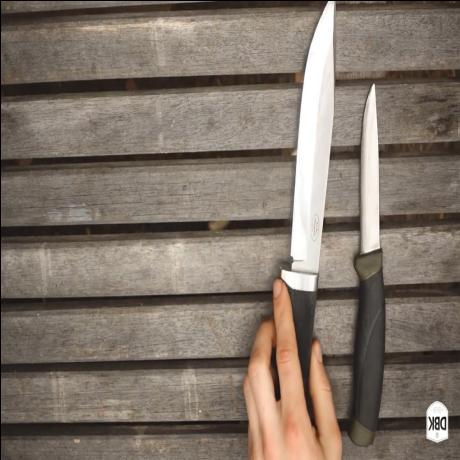1: (240, 278, 344, 460)
weapon: (289, 0, 337, 361), (351, 83, 387, 453)
